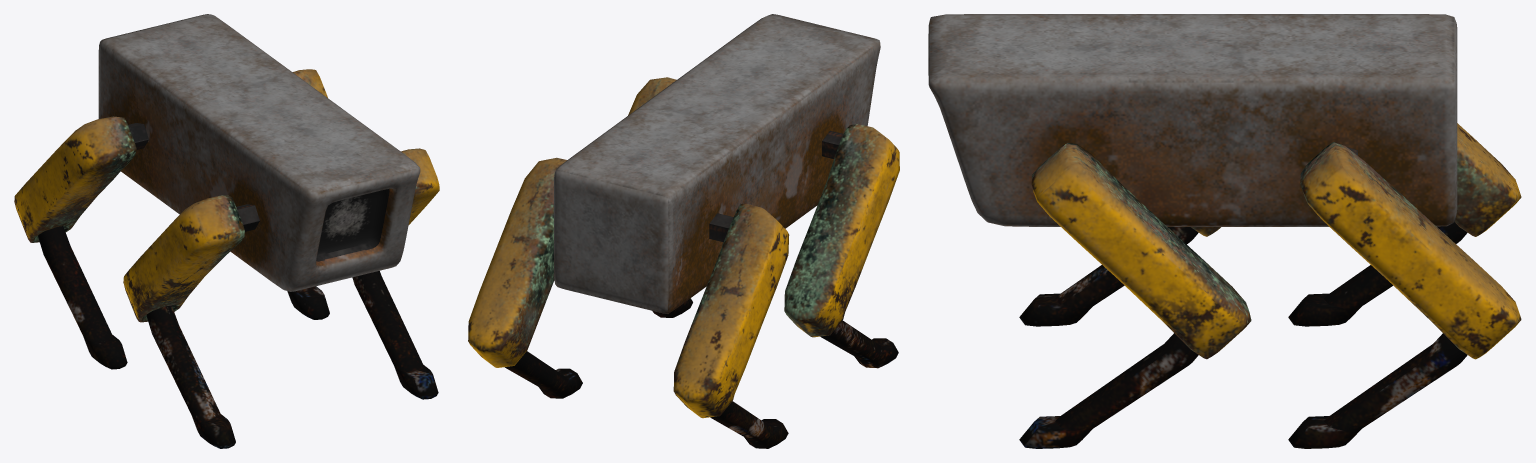
The model's file is RobotDog_Fixed.fbx.
The picture shows the model from 3 angles, left to right: view 1: azimuth 30°, elevation 25°; view 2: azimuth 150°, elevation 25°; view 3: azimuth 270°, elevation 25°; orthographic projection. The views are drawn at different scales.
Parts seen in each view (by area): view 1: Body, Back_Thigh_L, Front_Thigh_L, Front_Leg_L, Back_Leg_L, Front_Leg_R, Front_Thigh_R, Back_Leg_R, FrontBolt_L; view 2: Body, Back_Thigh_L, Front_Thigh_L, Back_Thigh_R, Back_Leg_R, Front_Leg_L, Back_Leg_L, Front_Thigh_R, BackBolt_L, FrontBolt_L; view 3: Body, Back_Thigh_R, Front_Thigh_R, Front_Leg_R, Back_Leg_R, Back_Thigh_L, Back_Leg_L, Front_Leg_L.
Boxes of the visible parts, left/top/right/bottom form: Body: left=98, top=14, right=420, bottom=291; Back_Thigh_L: left=14, top=116, right=136, bottom=242; Front_Thigh_L: left=123, top=195, right=244, bottom=322; Front_Leg_L: left=146, top=305, right=235, bottom=448; Back_Leg_L: left=38, top=226, right=127, bottom=369; Front_Leg_R: left=352, top=271, right=438, bottom=399; Front_Thigh_R: left=401, top=148, right=439, bottom=224; Back_Leg_R: left=287, top=286, right=329, bottom=319; FrontBolt_L: left=236, top=204, right=259, bottom=231; Body: left=554, top=14, right=880, bottom=313; Back_Thigh_L: left=673, top=204, right=789, bottom=418; Front_Thigh_L: left=784, top=124, right=899, bottom=337; Back_Thigh_R: left=468, top=157, right=566, bottom=367; Back_Leg_R: left=505, top=351, right=582, bottom=398; Front_Leg_L: left=820, top=320, right=898, bottom=368; Back_Leg_L: left=710, top=401, right=788, bottom=448; Front_Thigh_R: left=628, top=77, right=676, bottom=115; BackBolt_L: left=709, top=213, right=733, bottom=242; FrontBolt_L: left=822, top=130, right=843, bottom=158; Body: left=928, top=14, right=1457, bottom=226; Back_Thigh_R: left=1300, top=142, right=1521, bottom=359; Front_Thigh_R: left=1031, top=143, right=1251, bottom=359; Front_Leg_R: left=1019, top=333, right=1198, bottom=448; Back_Leg_R: left=1288, top=333, right=1467, bottom=448; Back_Thigh_L: left=1455, top=123, right=1521, bottom=236; Back_Leg_L: left=1288, top=222, right=1467, bottom=326; Front_Leg_L: left=1019, top=227, right=1198, bottom=326.
Size of the model in its own units: 172 by 180 by 287.
